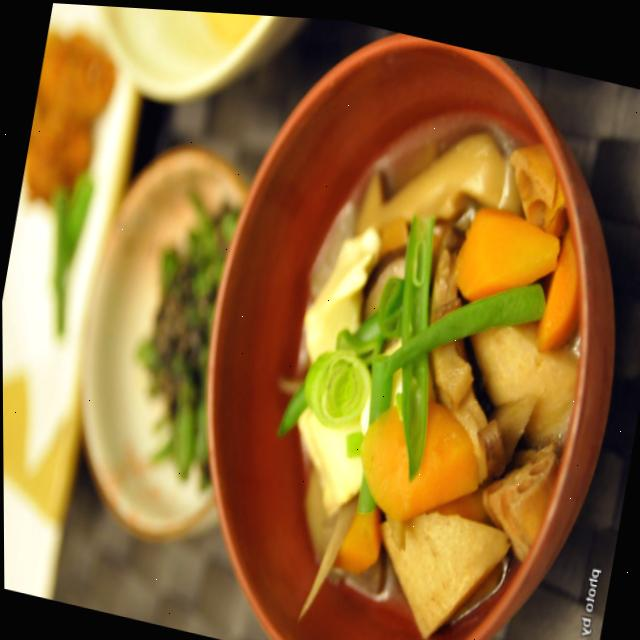蔬菜料理: (134, 6, 640, 640)
